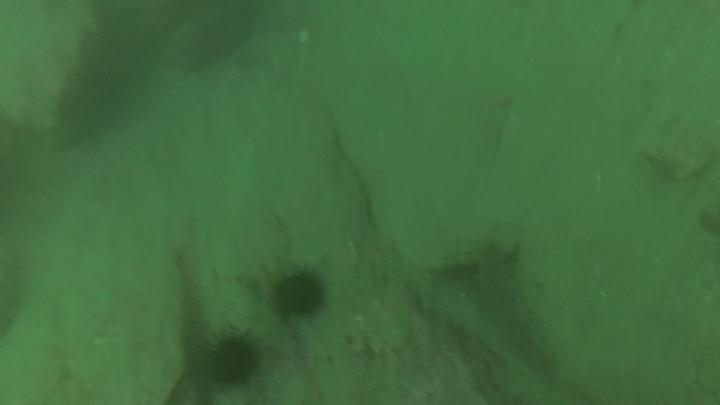echinus: (200, 328, 265, 392), (269, 263, 329, 322)
